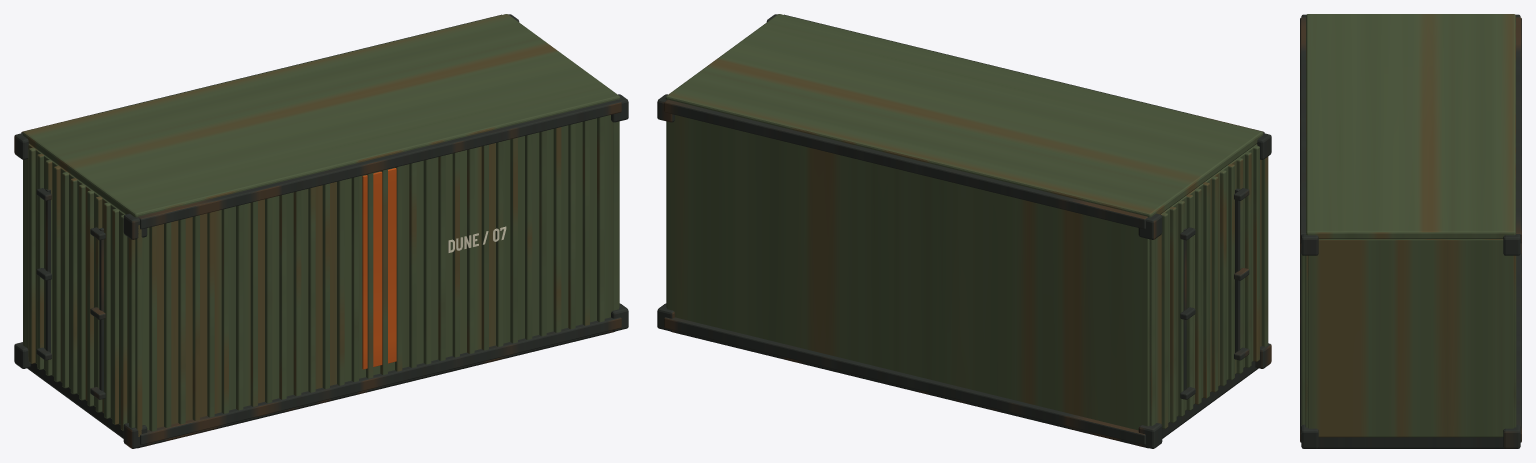
Rendered from container.obj.
3 views of the same model, side by side, from view 1: azimuth 30°, elevation 25°; view 2: azimuth 150°, elevation 25°; view 3: azimuth 270°, elevation 25° (orthographic). The views are drawn at different scales.
Parts seen in each view (by area): view 1: container; view 2: container; view 3: container.
Part boxes in pixels (x1,y1,x2,y2): container: [14, 14, 628, 448]; container: [657, 14, 1271, 448]; container: [1300, 14, 1521, 448].
Bounding box in the file's own units: 6.26 × 2.82 × 2.59.
Materials: 1 (1 with a texture image).
